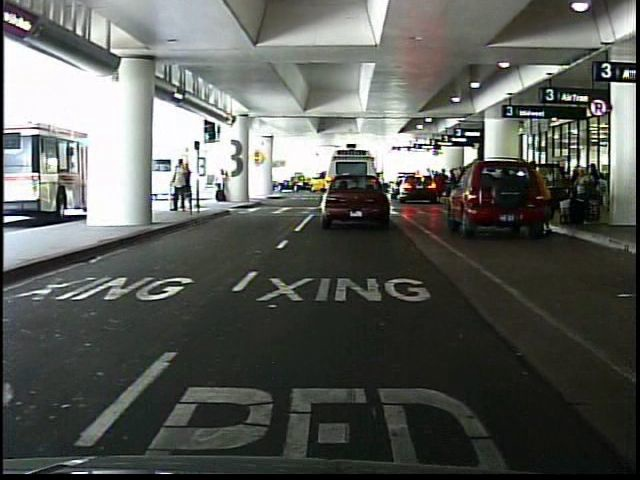person: (529, 158, 558, 231), (169, 157, 187, 214), (215, 167, 235, 205), (183, 162, 197, 211)
